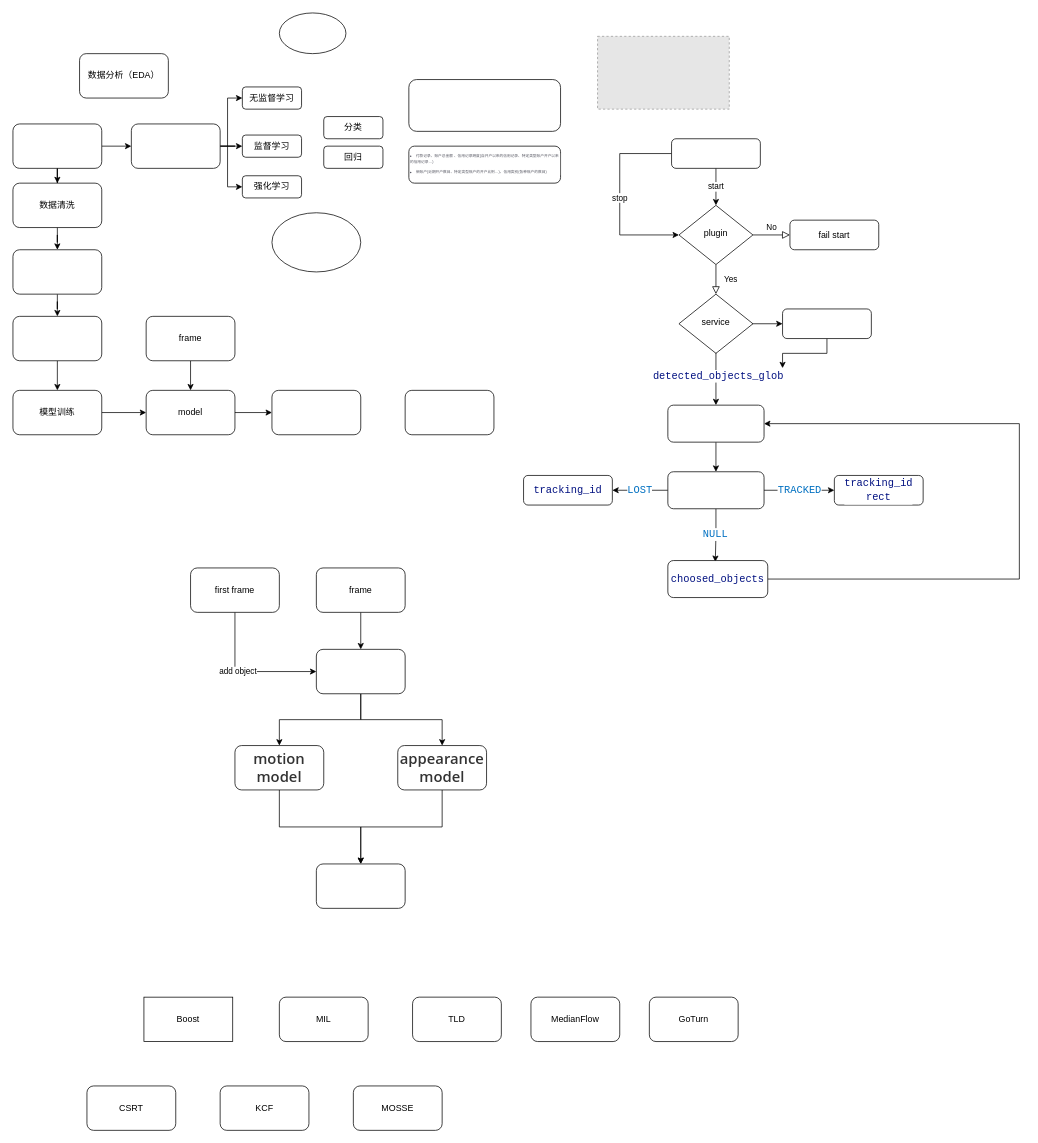
This 1038x1143 diagram has some shape labels left out. Grey dashed boxes stand in for pictures. Here are the shapes that lost their labels. From the top down, the centre of each, then its label:
At point (312, 33): "用于建立模型的标签数据，以便学习如何从输入中预测输出".
At point (484, 105): "K—近邻算法（k-Nearest Neighbor） 决策树（Decision Tree） 朴素贝叶斯（Naive Bayes）".
At point (57, 145): "数据集".
At point (175, 145): "模型".
At point (715, 153): "mtgl".
At point (316, 242): "一种决定下一步行动方案的机器学习任务，它通过试错学习来实现这一目标，努力使回报最大化。".
At point (57, 271): "数据标注".
At point (57, 338): "数据分割（训练、验证、测试）".
At point (826, 323): "AddObject".
At point (316, 412): "label rect threshold".
At point (715, 423): "Track".
At point (715, 490): "tracked_objects".
At point (360, 671): "tracker".
At point (360, 885): "rersult".
